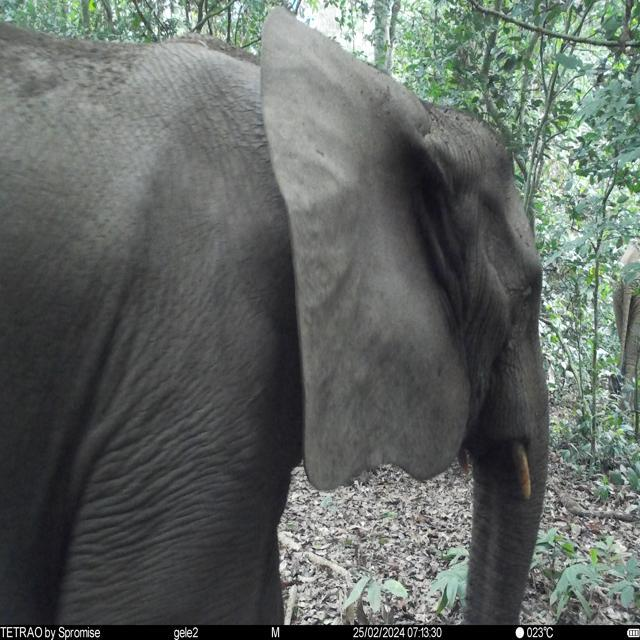ear: (259, 5, 472, 492)
elephant: (0, 6, 548, 624), (611, 232, 640, 401)
tusk: (510, 441, 534, 501), (456, 451, 468, 474)
